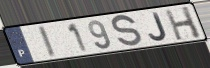1: (66, 22, 89, 54)
9: (87, 20, 112, 51)
H: (163, 5, 204, 42)
I: (36, 25, 58, 60)
J: (148, 11, 169, 42)
S: (111, 13, 144, 49)
